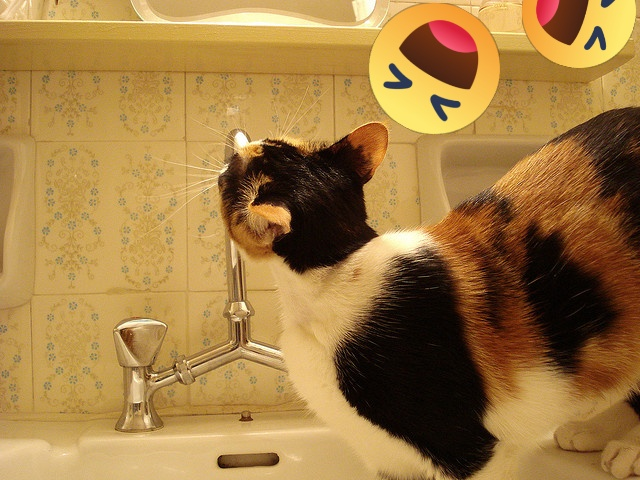haha: (369, 3, 500, 134), (522, 0, 636, 68)
